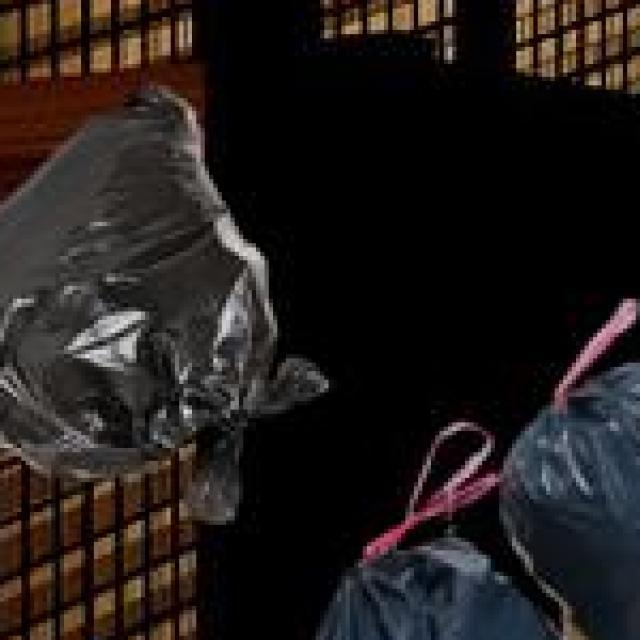Trashbag: (0, 76, 342, 537)
